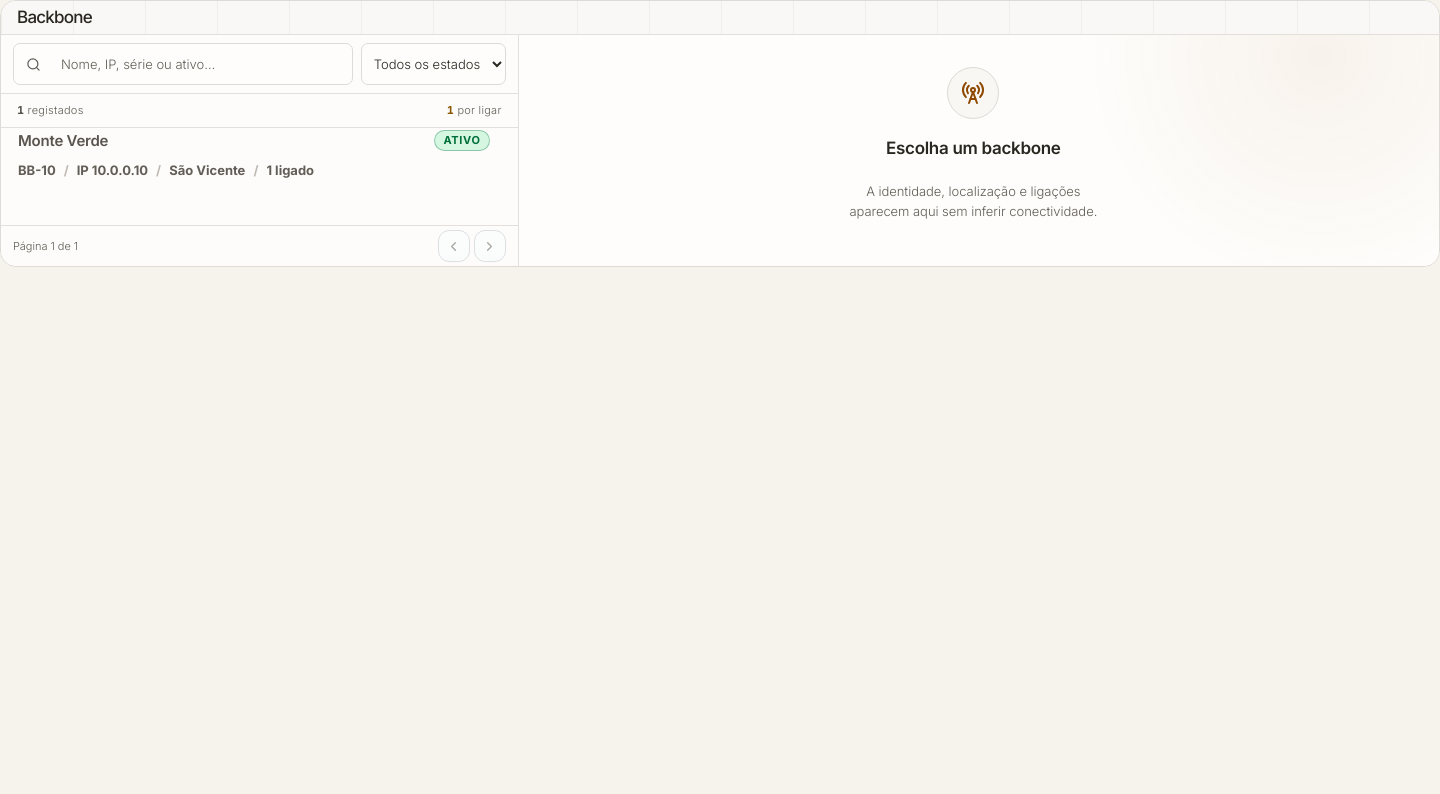
Test: Backbone workspace › keeps list and detail visible for technicians without exposing mutation actions
Click the option "Monte Verde Ativo BB-10 IP 10.0.0.10 São Vicente 1 ligado" at (63, 141), box [1,128,507,181]
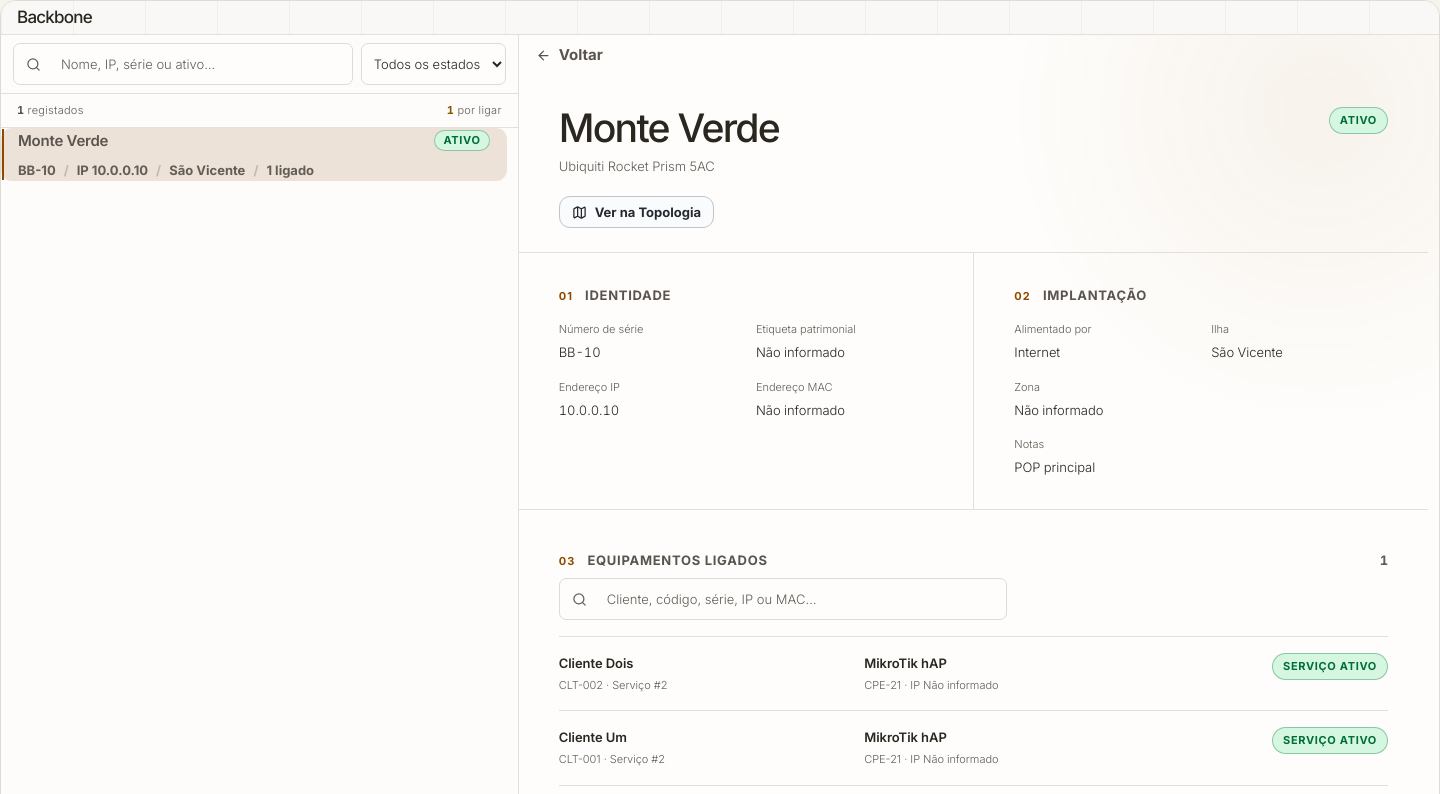
Expected: the text "Monte Verde" is shown, [18,129,108,152]
Result: the button "Ver na Topologia" is shown at [559,196,714,228]
